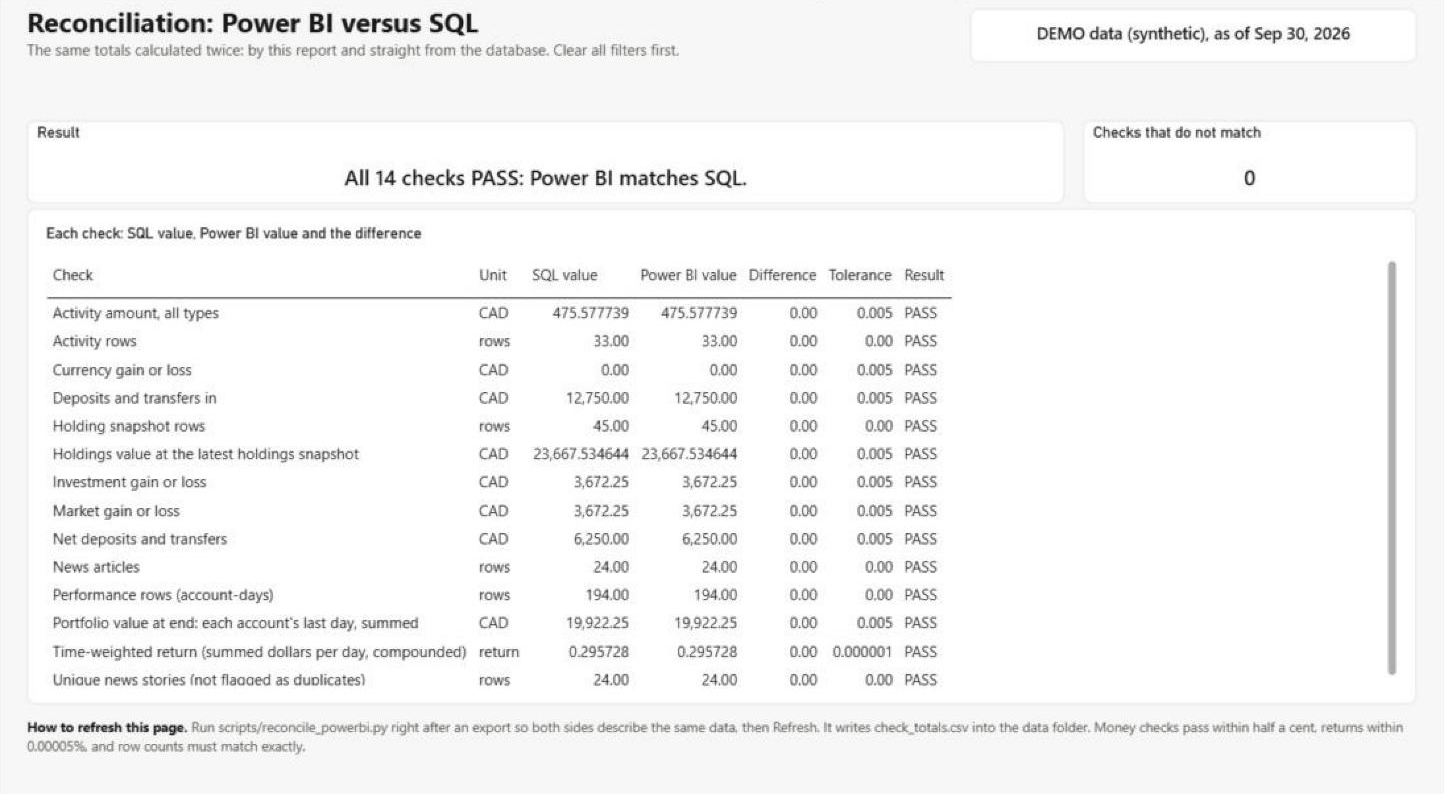

What the dashboard file says about the page in this screenshot:
{"tool":"powerbi","page":{"name":"Reconciliation","canvas":[1280,720],"ordinal":8},"visuals":[{"type":"textbox","box":[24,8,820,60],"z":0},{"type":"card","fields":{"Values":["_Measures.Data as of"]},"box":[860,12,396,48],"z":1000},{"type":"card","title":"Result","fields":{"Values":["_Measures.Reconciliation status"]},"box":[24,112,920,74],"z":3000},{"type":"card","title":"Checks that do not match","fields":{"Values":["_Measures.Checks failed"]},"box":[960,112,296,74],"z":4000},{"type":"tableEx","title":"Each check: SQL value, Power BI value and the difference","fields":{"Values":["check_totals.check_name","check_totals.unit","_Measures.SQL value","_Measures.Power BI value","_Measures.Difference","check_totals.tolerance","_Measures.Check result"]},"box":[24,190,1232,440],"z":5000},{"type":"textbox","box":[24,640,1232,56],"z":6000}]}

Visuals, with their boxes in screenshot pixels (x1, y1, x2, y2), scaled from the page's 1280x720 canvas onto the 1444x794 screenshot:
textbox: (x1=27, y1=9, x2=952, y2=75)
card - _Measures.Data as of: (x1=970, y1=13, x2=1417, y2=66)
"Result" card: (x1=27, y1=124, x2=1065, y2=205)
"Checks that do not match" card: (x1=1083, y1=124, x2=1417, y2=205)
"Each check: SQL value, Power BI value and the difference" tableEx: (x1=27, y1=210, x2=1417, y2=695)
textbox: (x1=27, y1=706, x2=1417, y2=768)
